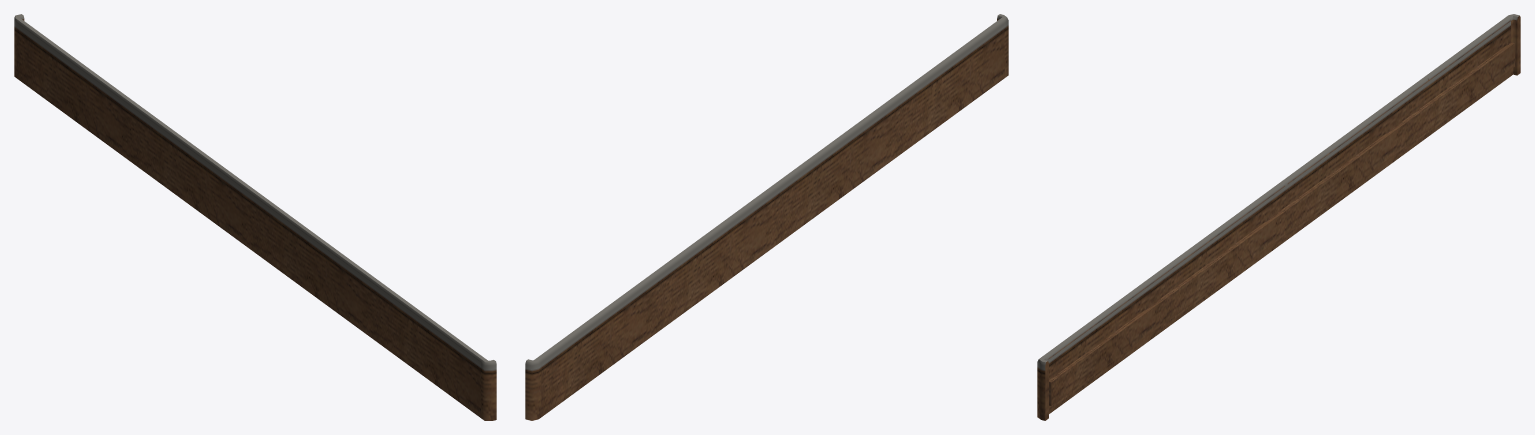
The model's file is HH_Wall_Guard_4m_02.fbx.
3 views of the same model, side by side, from view 1: azimuth 30°, elevation 25°; view 2: azimuth 150°, elevation 25°; view 3: azimuth 330°, elevation 25° (orthographic).
Visible parts, largest first — view 1: HH_Wall_Guard_4m_02; view 2: HH_Wall_Guard_4m_02; view 3: HH_Wall_Guard_4m_02.
Part boxes in pixels (bbox=[...]): HH_Wall_Guard_4m_02: bbox=[14, 14, 496, 420]; HH_Wall_Guard_4m_02: bbox=[525, 14, 1008, 420]; HH_Wall_Guard_4m_02: bbox=[1037, 14, 1520, 420].
Bounding box in the file's own units: 5.01 × 27.63 × 410.
